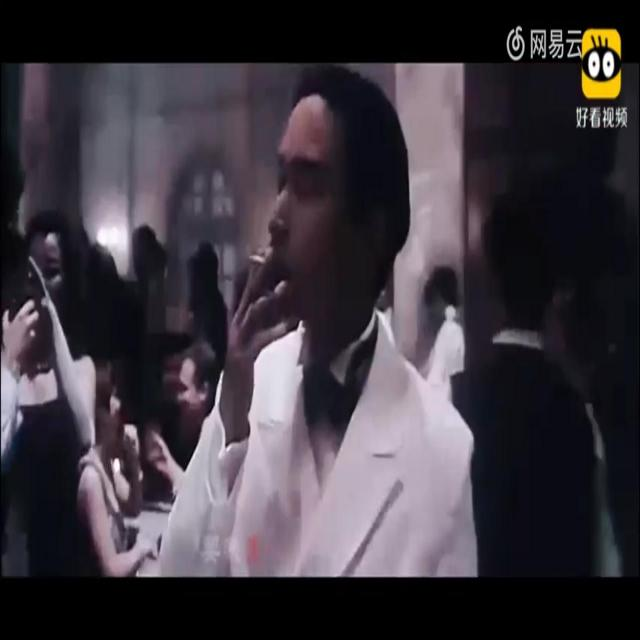Сигарета: (249, 251, 265, 264)
Тело: (170, 84, 476, 573)
